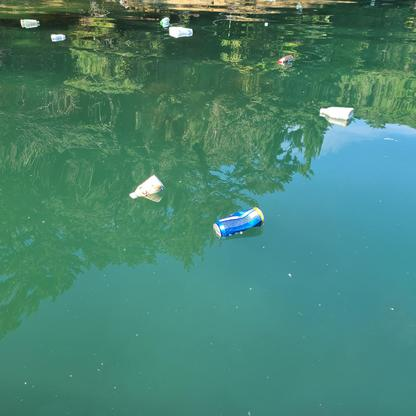can: (213, 207, 265, 236)
plastic bottle: (128, 175, 164, 200), (317, 105, 356, 120)
